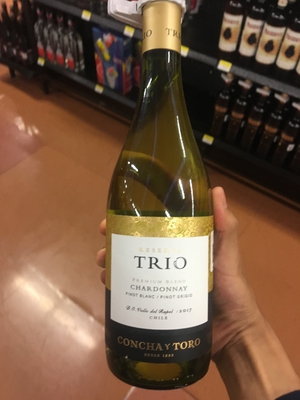trio chardonnay: (93, 10, 238, 387)
